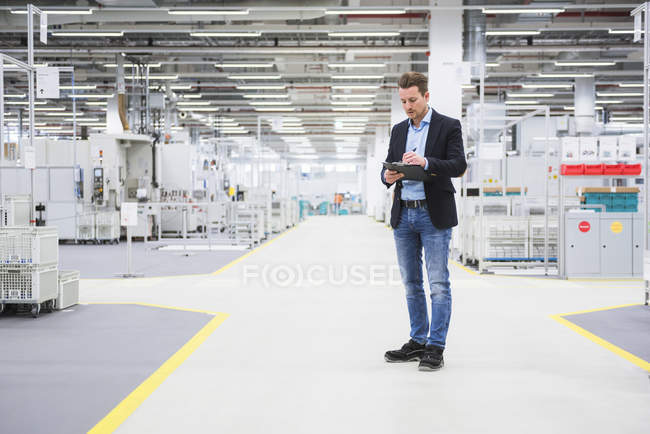person: (382, 77, 467, 371)
